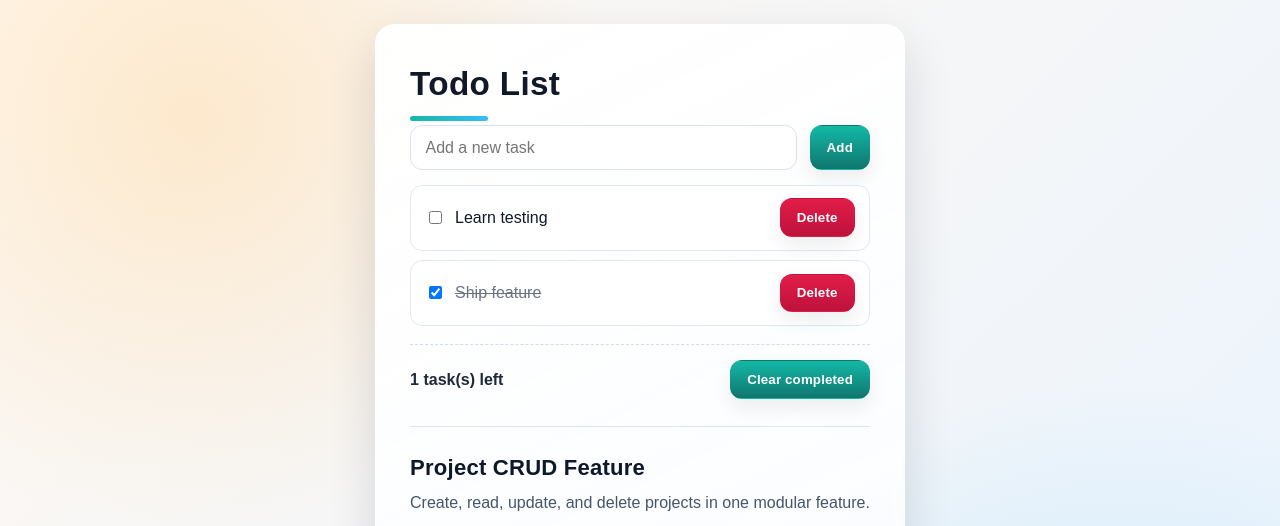
it: App › validates blocked words
Expected: the text "Learn testing" is shown, [455,206,548,230]
Type "hack this thing" into the field labelled "Add a new task".
click(604, 148); type("hack this thing")  # box [410,126,797,170]
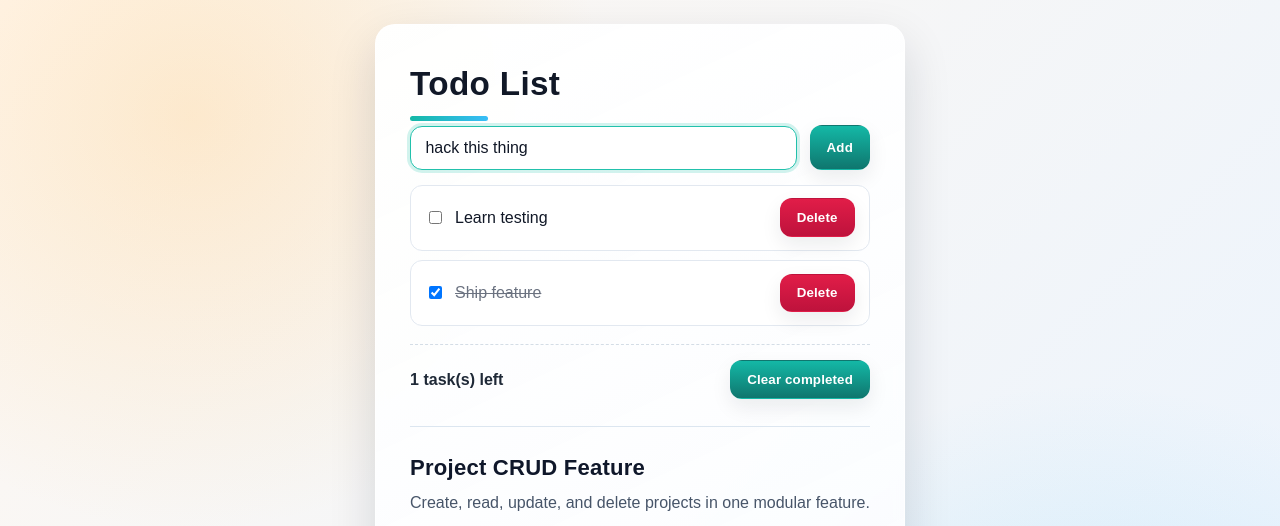
Click the button "Add".
click(840, 148)  # box [810,126,870,170]
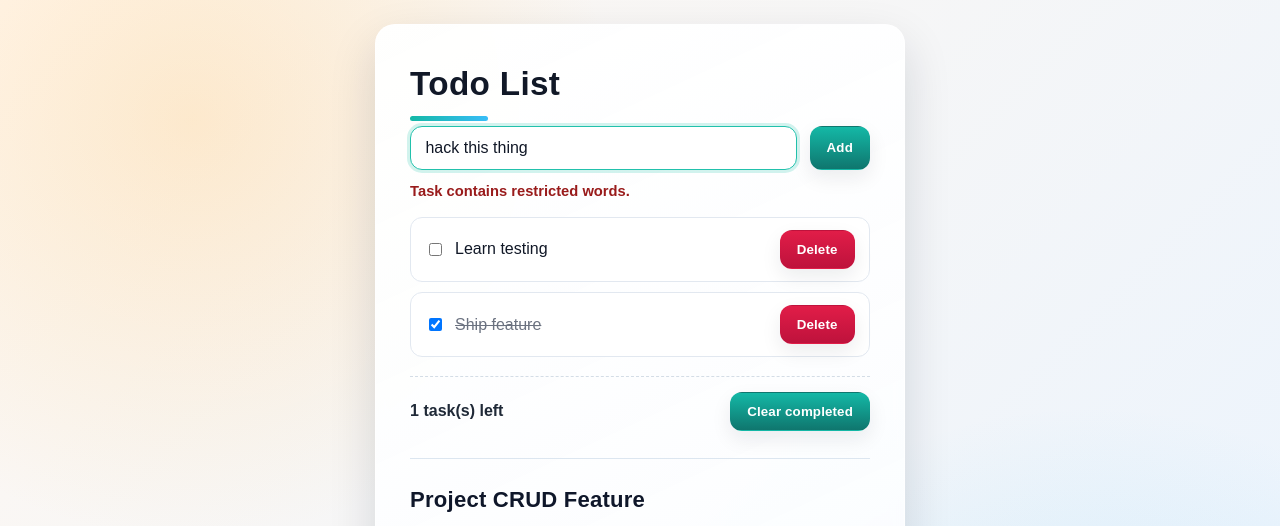
Expected: the text "Task contains restricted words." is shown, [410,183,630,199]
